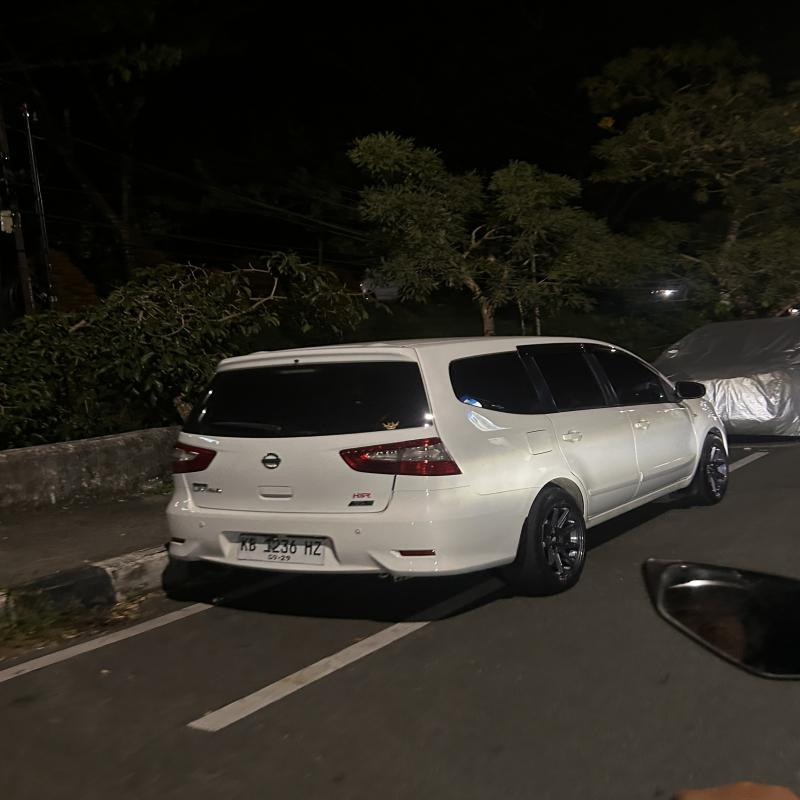license plate on a car: (228, 532, 346, 568)
